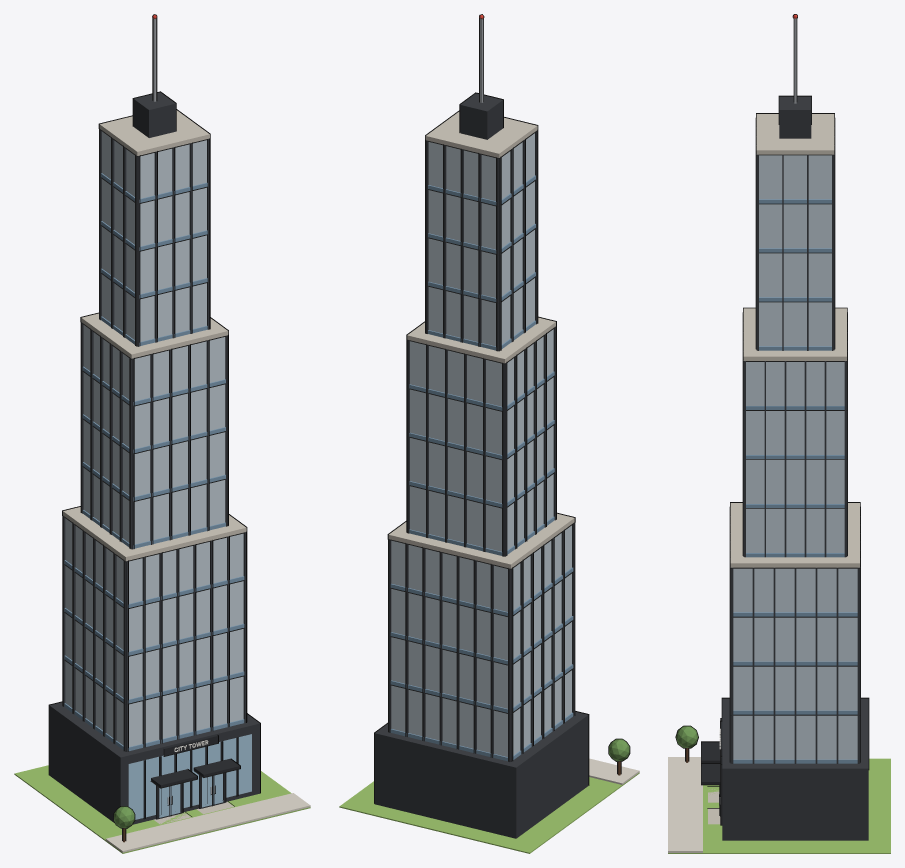
Rendered from Buro_is_kulesi_1.fbx.
3 views of the same model, side by side, from view 1: azimuth 30°, elevation 25°; view 2: azimuth 150°, elevation 25°; view 3: azimuth 270°, elevation 25° (orthographic). The views are drawn at different scales.
Visible parts, largest first — view 1: Buro_is_kulesi_1; view 2: Buro_is_kulesi_1; view 3: Buro_is_kulesi_1.
Boxes of the visible parts, x1,y1,x2,y2 form: Buro_is_kulesi_1: [14, 14, 310, 853]; Buro_is_kulesi_1: [339, 14, 639, 853]; Buro_is_kulesi_1: [668, 14, 890, 853].
Bounding box in the file's own units: 14 × 55.03 × 14.
